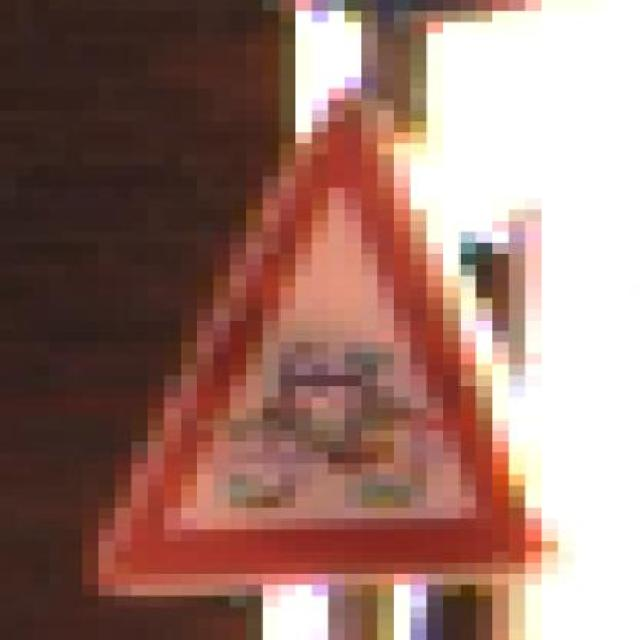CYCLE ROUTE AHEAD WARNING: (82, 77, 575, 608)
